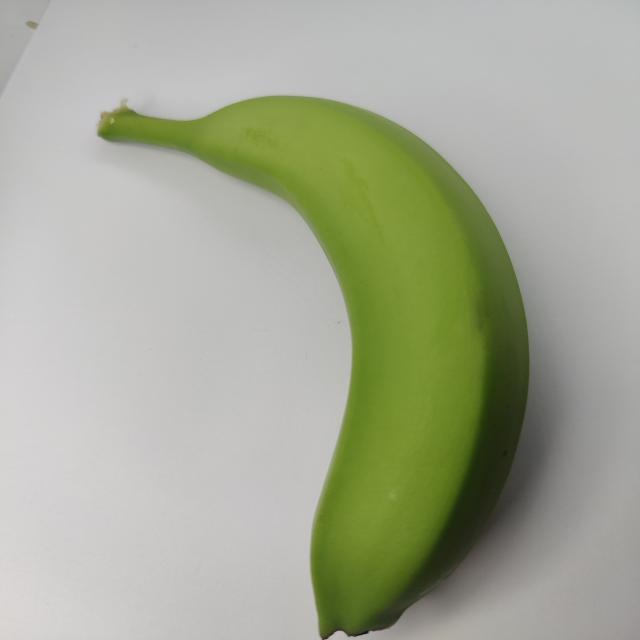raw: (58, 85, 593, 640)
